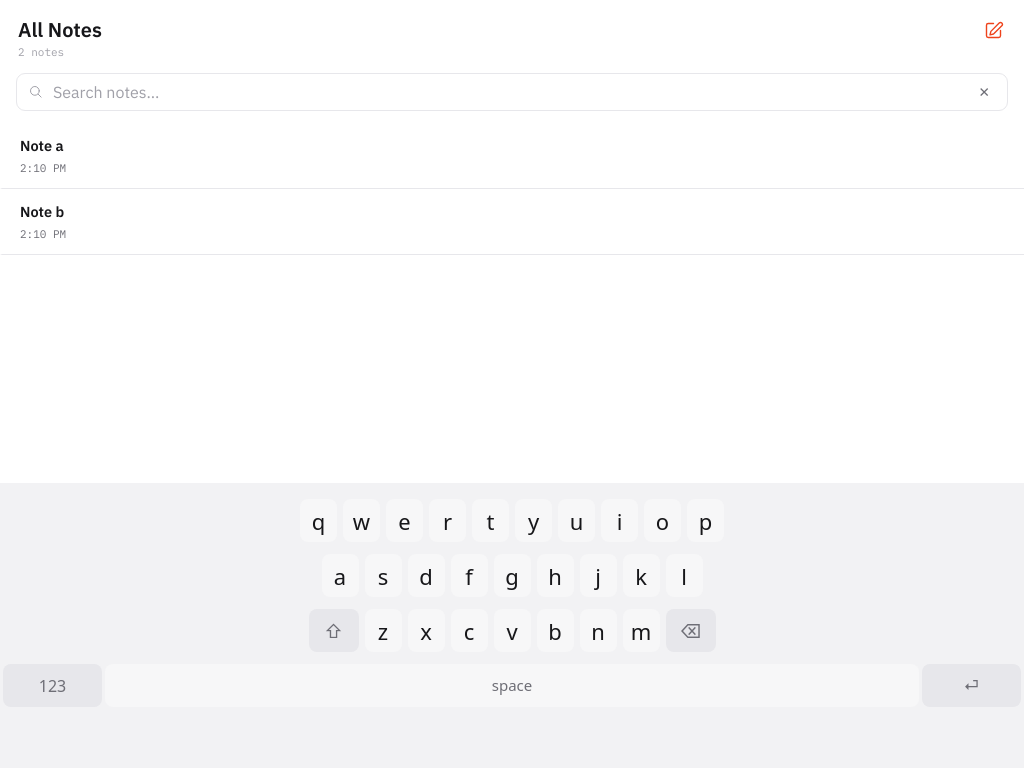
Test: HomeView in-place search — keypad mode › closing exits search mode and returns the Deck to the navigation context
The width and height of the screenshot is (1024, 768).
Click the button with class "home__search-close": click(984, 92) [973,82,996,102]
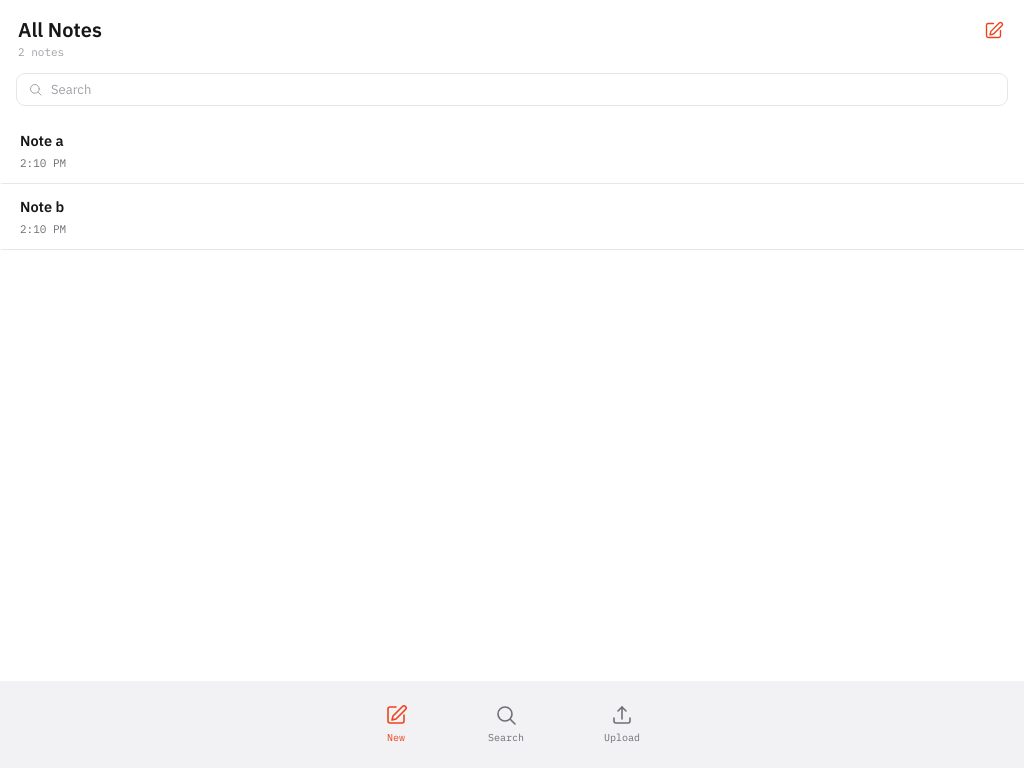
expect the search field with class "home__search-input" is gone: met
expect the button with class "home__search-field" is shown: met, box [16,72,1008,106]
expect the element with class "keypad" is gone: met
